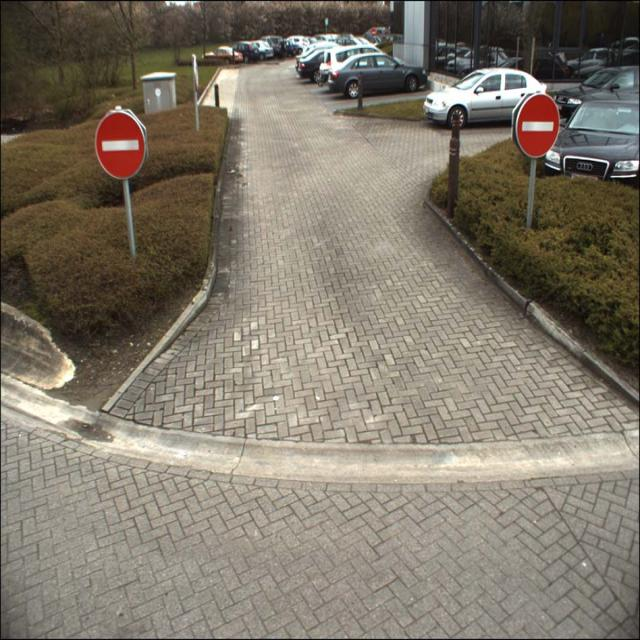girisyok: (95, 109, 147, 180), (515, 94, 559, 158)
